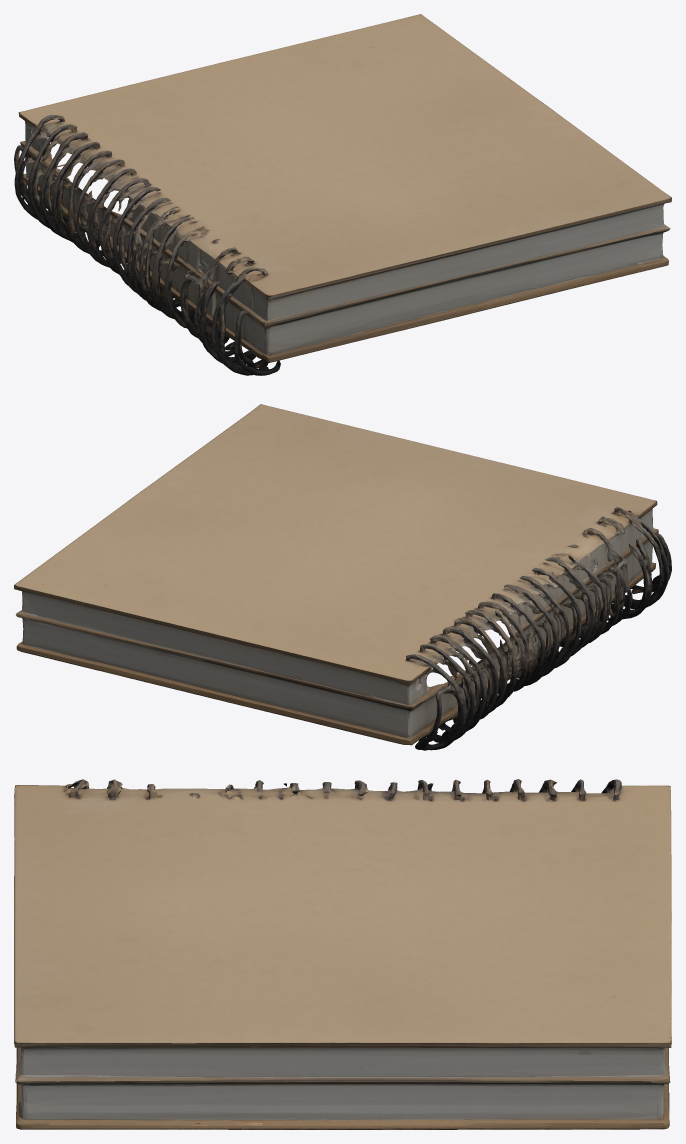
Rendered from book.glb.
3 renders of one model, top to bottom at view 1: azimuth 30°, elevation 25°; view 2: azimuth 150°, elevation 25°; view 3: azimuth 270°, elevation 25°, orthographic. The views are drawn at different scales.
Parts seen in each view (by area): view 1: world; view 2: world; view 3: world.
Boxes of the visible parts, x1=… form: world: x1=14, y1=14, x2=671, y2=375; world: x1=14, y1=404, x2=671, y2=750; world: x1=14, y1=779, x2=671, y2=1129.
Size of the model in its own units: 0.9955 by 0.2301 by 0.9904.
1 material, 1 textured.
